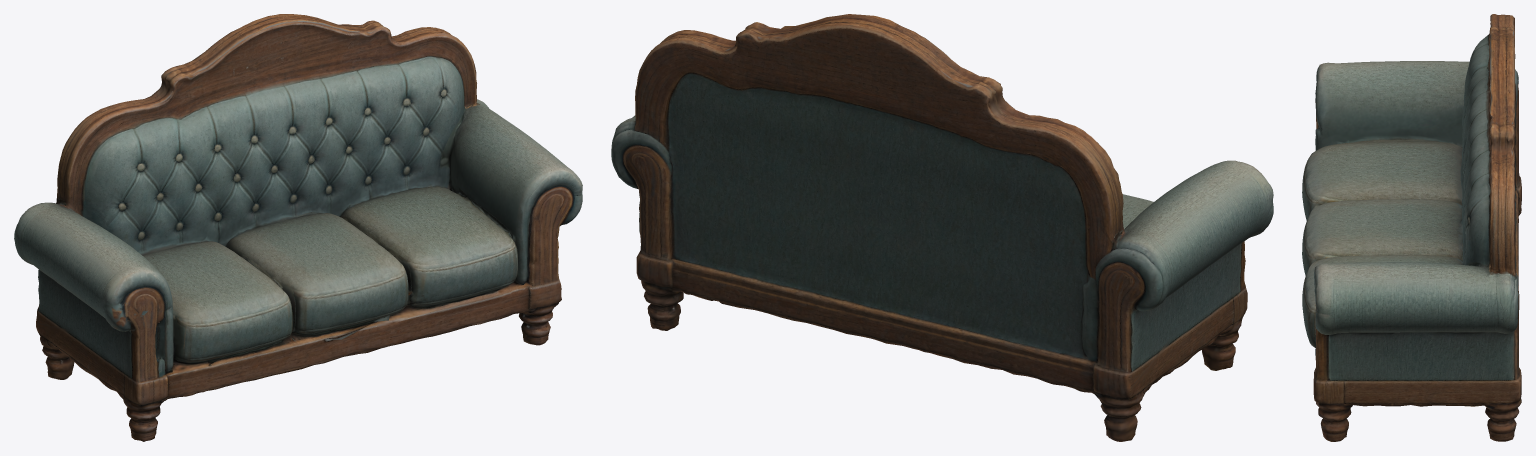
The model's file is Furn_ParlorSofa.fbx.
3 renders of one model, left to right at view 1: azimuth 30°, elevation 25°; view 2: azimuth 150°, elevation 25°; view 3: azimuth 270°, elevation 25°, orthographic. The views are drawn at different scales.
Visible parts, largest first — view 1: texture_mapping; view 2: texture_mapping; view 3: texture_mapping.
Part boxes in pixels (<box>): texture_mapping: <box>14,14,582,441</box>; texture_mapping: <box>611,14,1273,441</box>; texture_mapping: <box>1302,14,1521,441</box>.
Size of the model in its own units: 1 by 0.4005 by 0.6129.
Materials: 1 (1 with a texture image).
